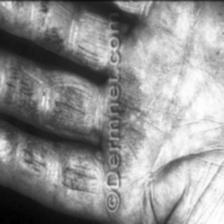Non-Cancerous Skin Condition: (0, 0, 85, 174)
